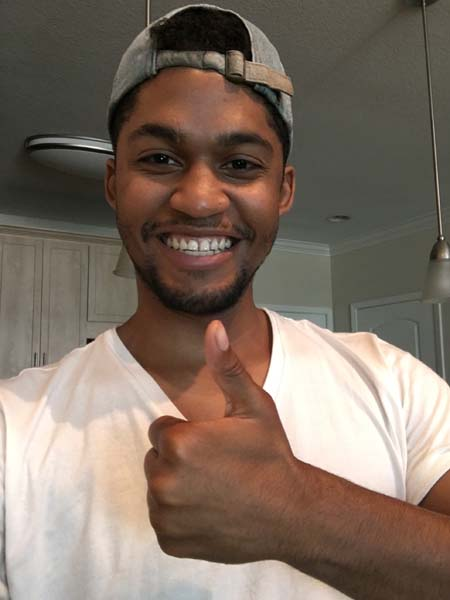Thumbs Up: (123, 314, 314, 572)
